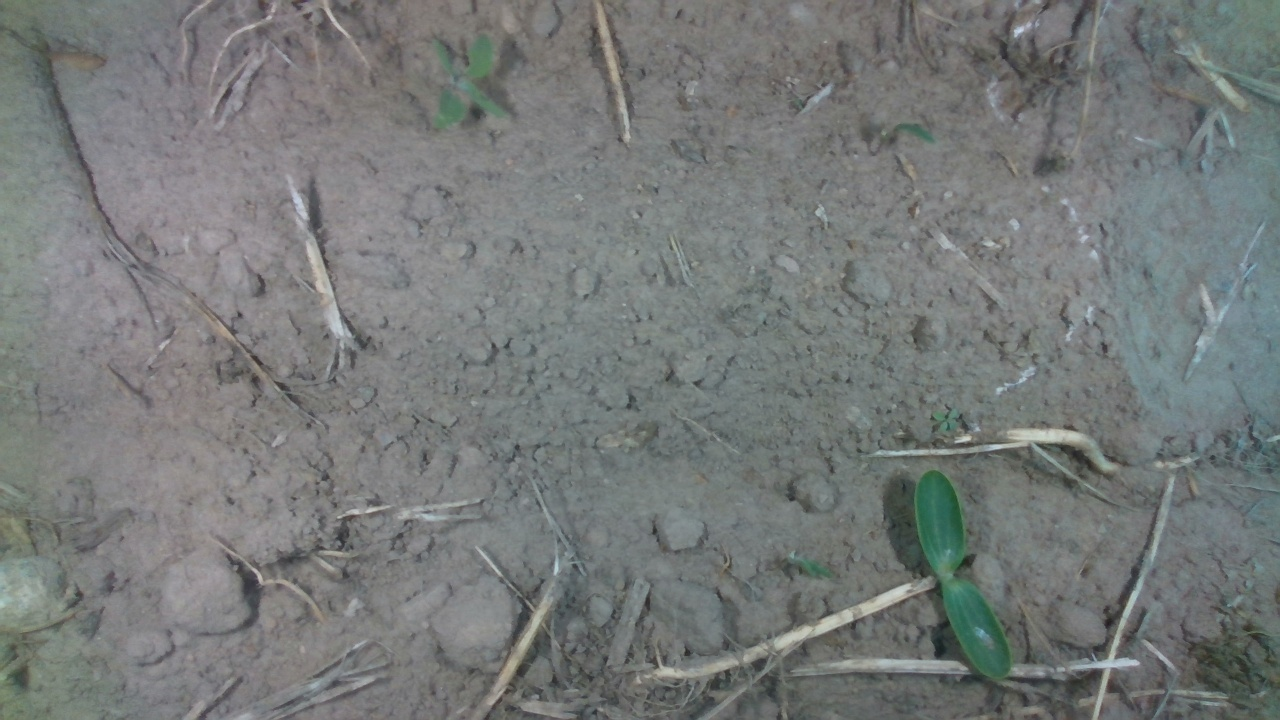crop: (912, 467, 1013, 680)
weed: (428, 29, 514, 128), (929, 405, 960, 434)
